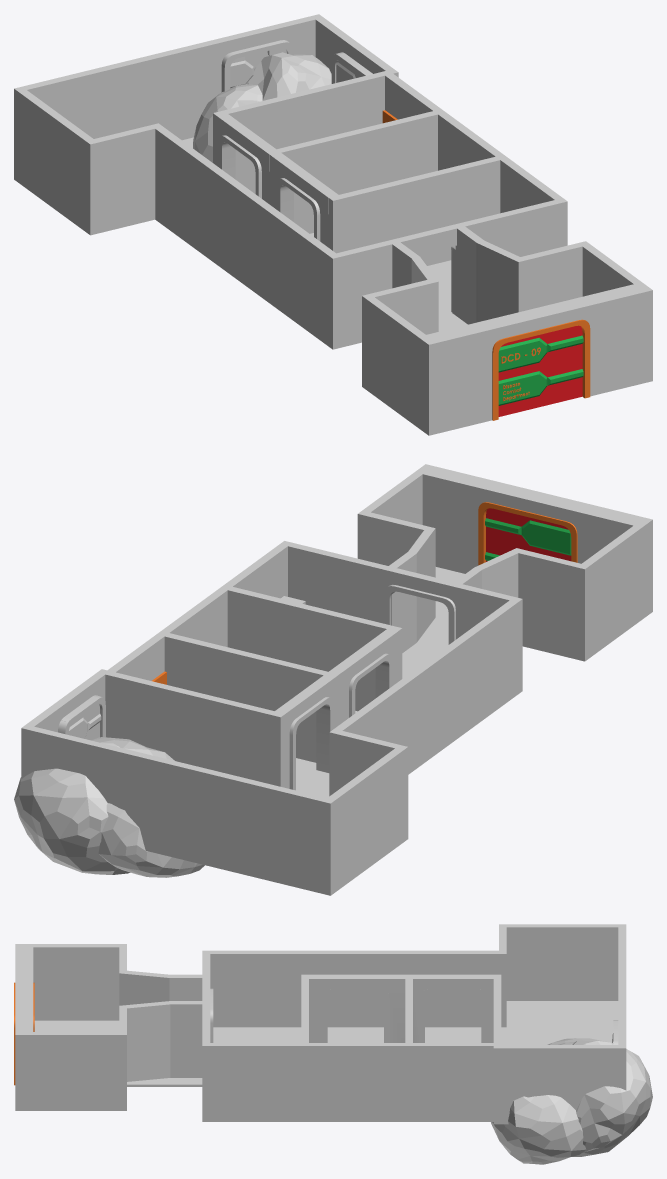
The model's file is RW_BunkerDONE.FBX.
3 views of the same model, one above another, from view 1: azimuth 30°, elevation 25°; view 2: azimuth 150°, elevation 25°; view 3: azimuth 270°, elevation 25° (orthographic). The views are drawn at different scales.
Parts seen in each view (by area): view 1: Wall015, Box009, Box010, GeoSphere001, Box013, GeoSphere002, Box011, Box023, Box031, Box026, Box030, Box027 (+2 smaller); view 2: Wall015, GeoSphere001, GeoSphere002, Box013, Box030, Box006, Box023, Box010, Box009, Box011, Box031, Box026 (+4 smaller); view 3: Wall015, Box004, GeoSphere003, GeoSphere001, Box006, Box002, Box031, Box026, Box027, Box030, Box013.
Part boxes in pixels (x1,y1,x2,y2): Wall015: (14,14,652,435); Box009: (498,335,547,416); Box010: (539,325,583,406); GeoSphere001: (246,52,331,100); Box013: (487,299,583,340); GeoSphere002: (193,84,262,162); Box011: (492,319,590,420); Box023: (380,223,477,263); Box031: (213,114,269,171); Box026: (272,156,328,213); Box030: (218,135,261,198); Box027: (277,178,320,241); Wall015: (21,464,652,895); GeoSphere001: (14,743,130,874); GeoSphere002: (98,803,204,877); Box013: (484,481,582,523); Box030: (289,697,333,790); Box006: (402,567,464,666); Box023: (371,566,469,607); Box010: (485,508,529,561); Box009: (521,517,571,561); Box011: (478,502,577,565); Box031: (281,675,338,733); Box026: (340,632,397,690); Wall015: (15,924,626,1124); Box004: (327,1001,618,1044); GeoSphere003: (491,1095,586,1164); GeoSphere001: (572,1040,652,1156); Box006: (34,1020,202,1086); Box002: (213,1027,301,1042); Box031: (423,974,483,990); Box026: (326,974,385,990); Box027: (322,989,389,1042); Box030: (420,989,486,1042); Box013: (15,972,33,1006).
Bounding box in the file's own units: 754 × 333 × 1538.
20 materials, 13 textured.
